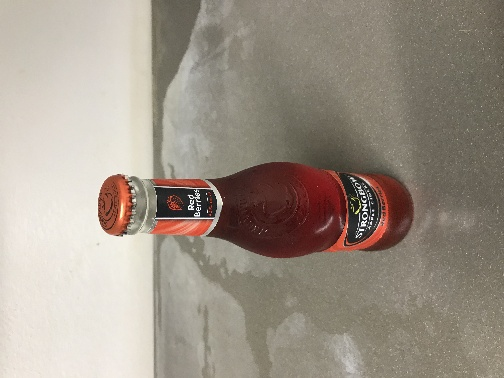SRB: (70, 126, 171, 173), (221, 123, 283, 184)
